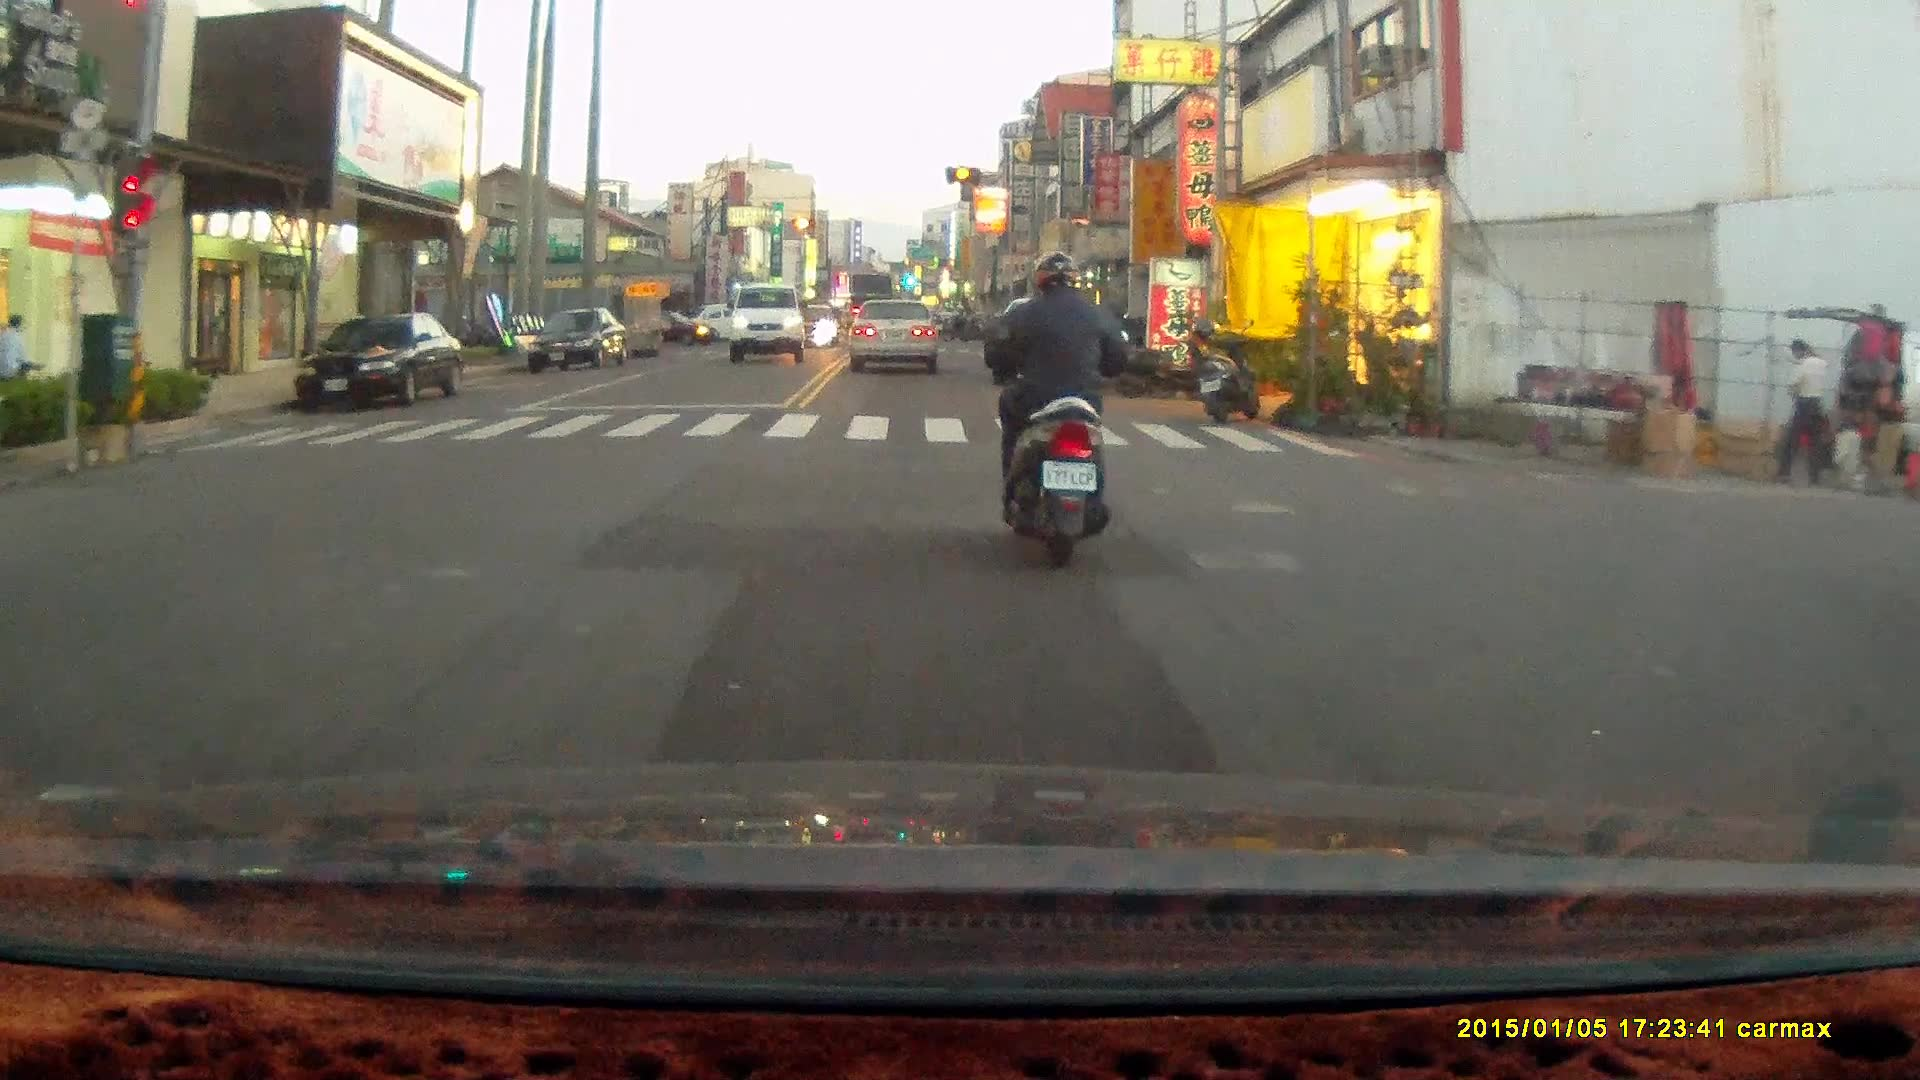pedestrian: (1773, 337, 1826, 487), (0, 310, 30, 388)
rider: (980, 249, 1125, 569)
vehicle: (293, 313, 465, 413), (1834, 316, 1920, 488), (528, 306, 630, 376), (852, 301, 949, 371), (730, 283, 808, 365)
